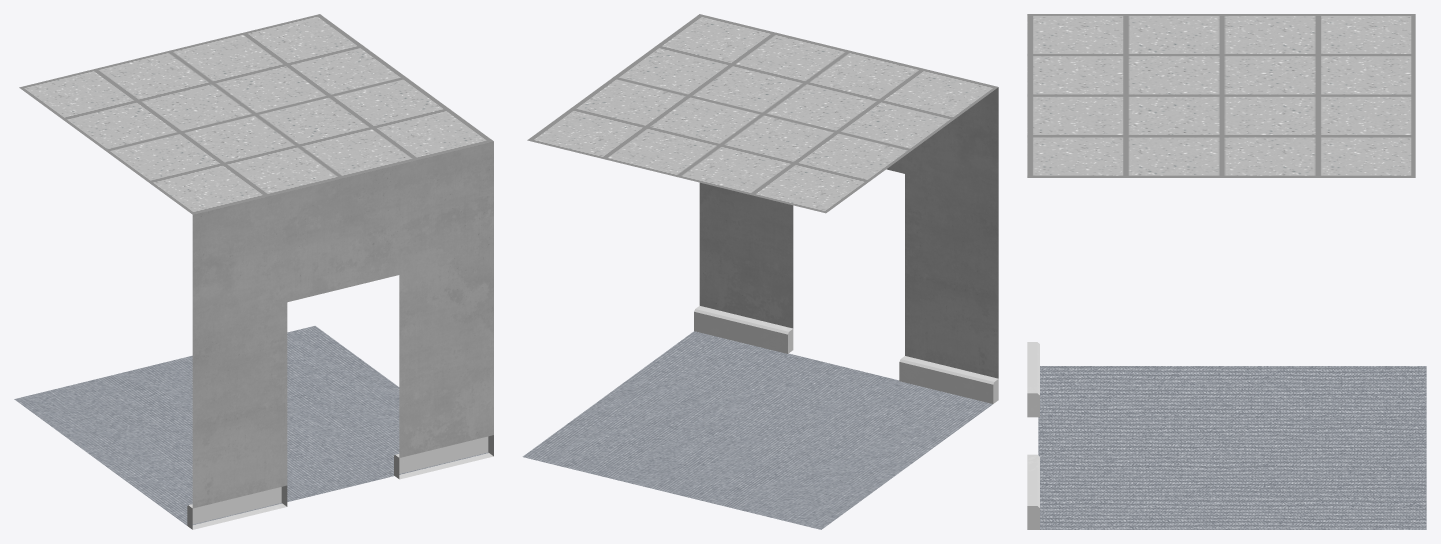
File: Office_WallDoor.fbx
The picture shows the model from 3 angles, left to right: view 1: azimuth 30°, elevation 25°; view 2: azimuth 150°, elevation 25°; view 3: azimuth 270°, elevation 25°; orthographic projection. The views are drawn at different scales.
Parts seen in each view (by area): view 1: pCube15, pCube11, pCube8; view 2: pCube11, pCube8, pCube15; view 3: pCube11, pCube8, pCube15.
Boxes of the visible parts, x1,y1,x2,y2 form: pCube15: (187,141,493,529); pCube11: (19,14,493,214); pCube8: (14,326,488,525); pCube11: (527,14,998,213); pCube8: (522,331,992,529); pCube15: (694,87,998,403); pCube11: (1027,14,1415,177); pCube8: (1038,366,1426,529); pCube15: (1027,342,1039,529).
Bounding box in the file's own units: 3.5 × 3.5 × 3.6.
1 material, 1 textured.
